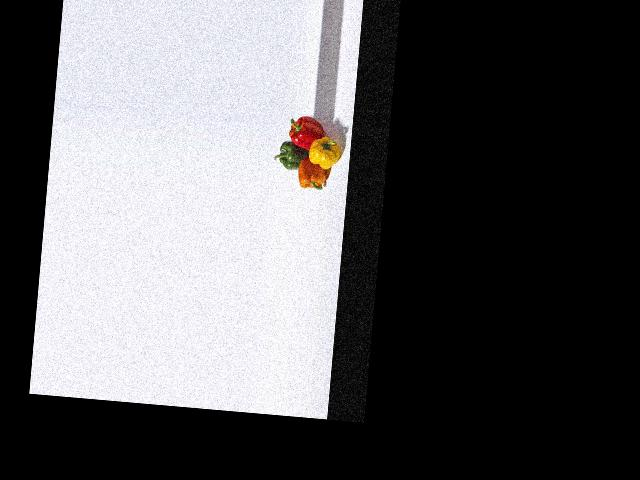bell_pepper: (284, 113, 326, 150)
